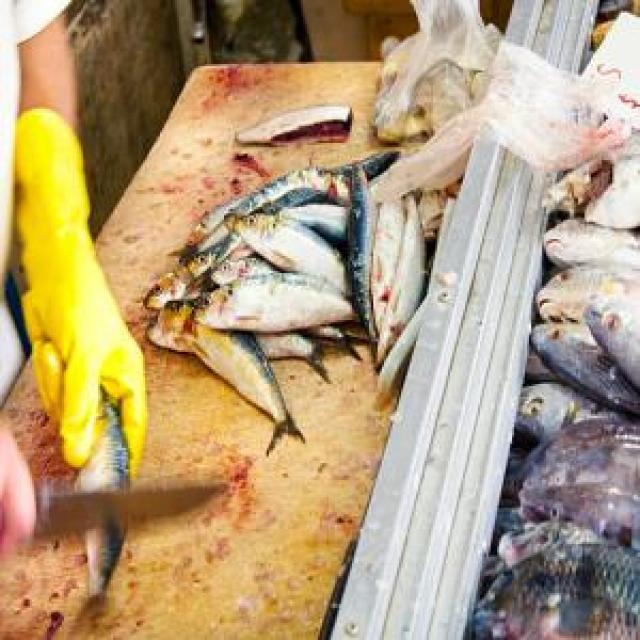knife: (0, 478, 235, 542)
